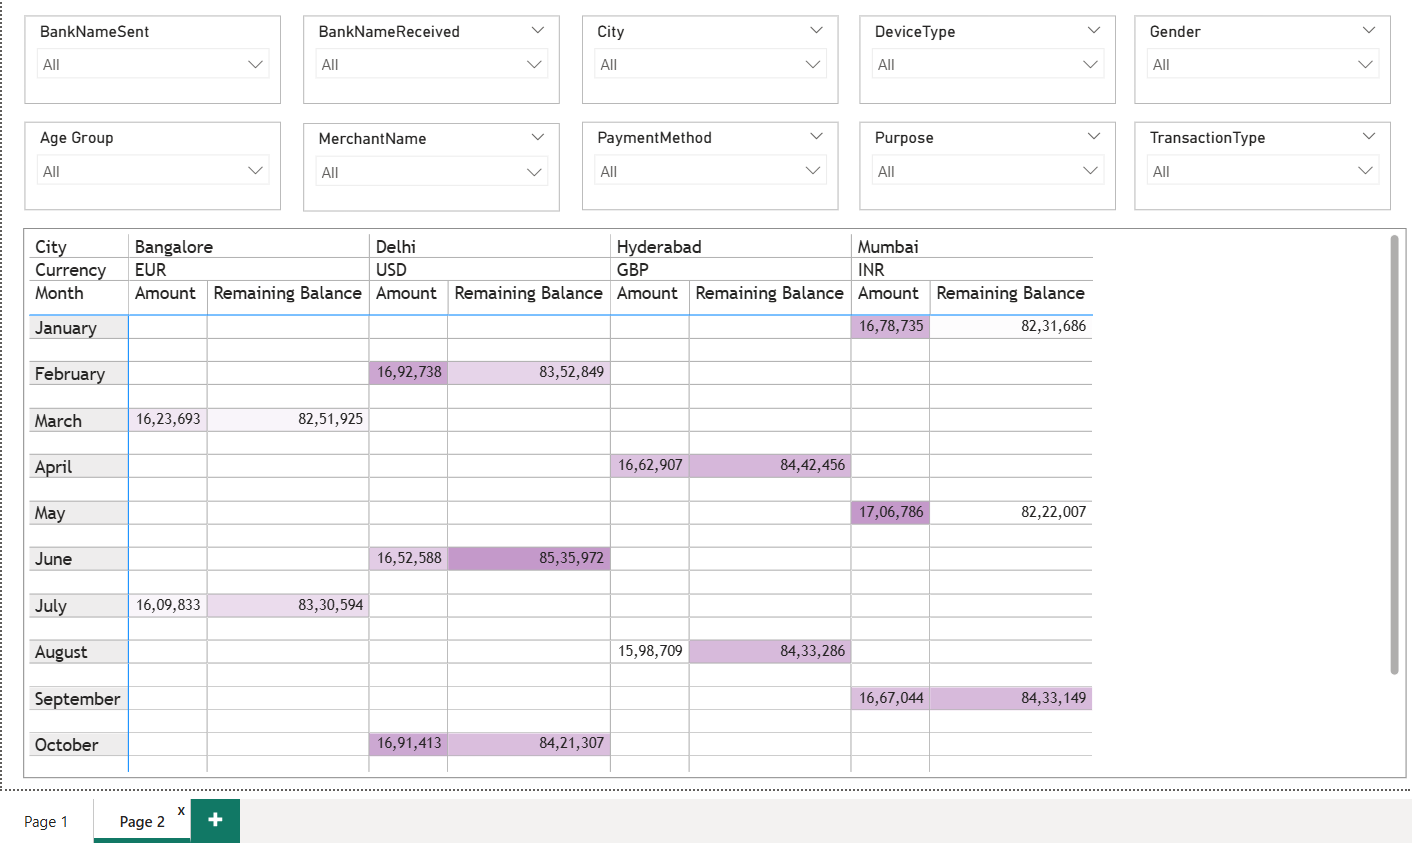

What the dashboard file says about the page in this screenshot:
{"tool":"powerbi","page":{"name":" Page 2","canvas":[1280,720],"ordinal":1},"visuals":[{"type":"slicer","fields":{"Values":["UPI Transactions.BankNameSent"]},"box":[20,20,232,80],"z":0},{"type":"slicer","fields":{"Values":["UPI Transactions.BankNameReceived"]},"box":[272,20.7,232,80.2],"z":1000},{"type":"slicer","fields":{"Values":["UPI Transactions.City"]},"box":[524.4,20,232,80.2],"z":2000},{"type":"slicer","fields":{"Values":["UPI Transactions.DeviceType"]},"box":[776,20,232,80.2],"z":3000},{"type":"slicer","fields":{"Values":["UPI Transactions.Gender"]},"box":[1024.2,20,232,80.2],"z":4000},{"type":"slicer","fields":{"Values":["UPI Transactions.Age Group"]},"box":[20,116.5,232,80],"z":5000},{"type":"slicer","fields":{"Values":["UPI Transactions.MerchantName"]},"box":[272,117.2,232,80.2],"z":6000},{"type":"slicer","fields":{"Values":["UPI Transactions.PaymentMethod"]},"box":[524.2,116.5,232,80.2],"z":7000},{"type":"slicer","fields":{"Values":["UPI Transactions.Purpose"]},"box":[776,116.5,232,80.2],"z":8000},{"type":"slicer","fields":{"Values":["UPI Transactions.TransactionType"]},"box":[1024,116.5,232,80.2],"z":9000},{"type":"pivotTable","fields":{"Values":["Sum(UPI Transactions.Amount)","Sum(UPI Transactions.RemainingBalance)"],"Rows":["UPI Transactions.TransactionDate.Variation.Date Hierarchy.Month"],"Columns":["UPI Transactions.City","UPI Transactions.Currency"]},"box":[19.8,212.8,1251.2,497.9],"z":10000}]}

Visuals, with their boxes on the page's 1280x720 design canvas (x1, y1, x2, y2). These are canvas units, not pixel positions in the 1412x843 screenshot, which may show the page scaled, cropped or inside an application window:
slicer - UPI Transactions.BankNameSent: rect(20, 20, 252, 100)
slicer - UPI Transactions.BankNameReceived: rect(272, 21, 504, 101)
slicer - UPI Transactions.City: rect(524, 20, 756, 100)
slicer - UPI Transactions.DeviceType: rect(776, 20, 1008, 100)
slicer - UPI Transactions.Gender: rect(1024, 20, 1256, 100)
slicer - UPI Transactions.Age Group: rect(20, 116, 252, 196)
slicer - UPI Transactions.MerchantName: rect(272, 117, 504, 197)
slicer - UPI Transactions.PaymentMethod: rect(524, 116, 756, 197)
slicer - UPI Transactions.Purpose: rect(776, 116, 1008, 197)
slicer - UPI Transactions.TransactionType: rect(1024, 116, 1256, 197)
pivotTable - Sum(UPI Transactions.Amount) x Sum(UPI Transactions.RemainingBalance): rect(20, 213, 1271, 711)
